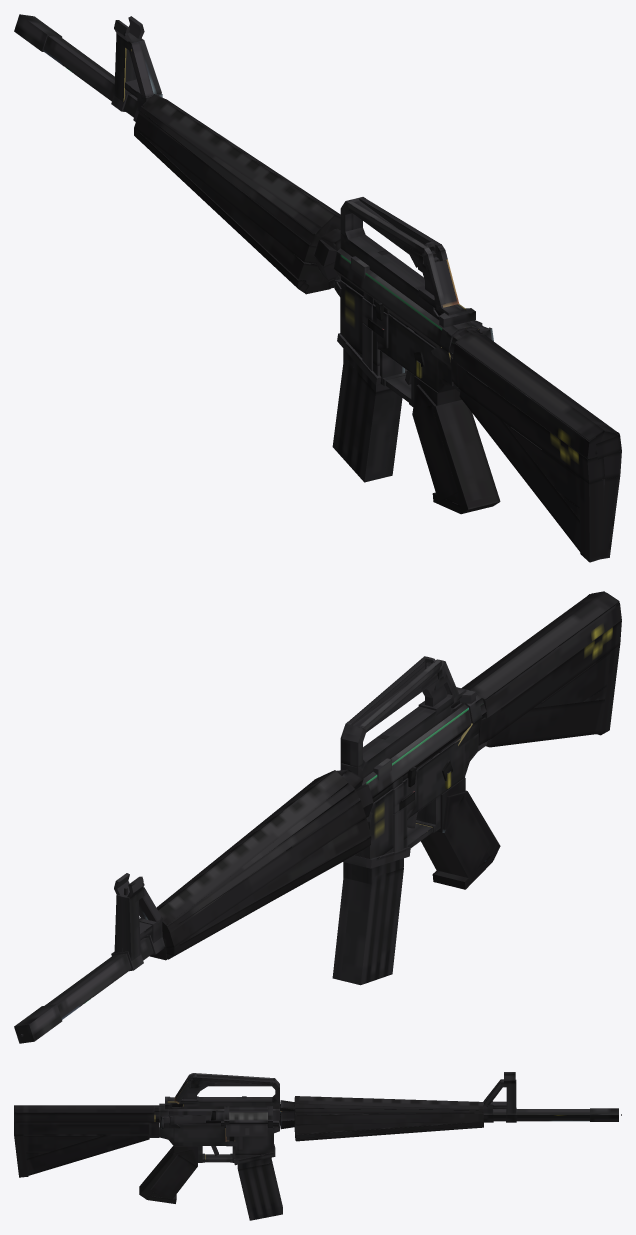
3 renders of one model, top to bottom at view 1: azimuth 30°, elevation 25°; view 2: azimuth 150°, elevation 25°; view 3: azimuth 270°, elevation 25°, orthographic. The views are drawn at different scales.
Visible parts, largest first — view 1: bone9_2, magazine_4; view 2: bone9_2, magazine_4; view 3: bone9_2, magazine_4, bolt_1.
Boxes of the visible parts, <box> form: bone9_2: <box>14,14,621,562</box>; magazine_4: <box>332,344,402,482</box>; bone9_2: <box>14,591,621,1043</box>; magazine_4: <box>332,856,403,985</box>; bone9_2: <box>14,1072,618,1203</box>; magazine_4: <box>237,1155,282,1220</box>; bolt_1: <box>229,1112,267,1120</box>.
Bounding box in the file's own units: 0.5676 × 2.04 × 7.85.
